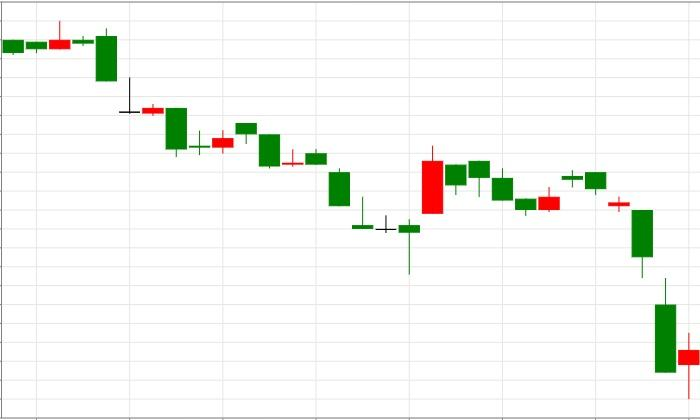three_black_crows_fall: (398, 146, 537, 275)
